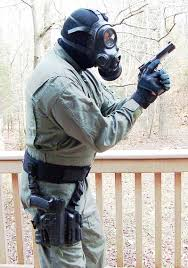Gun: (31, 197, 69, 245), (141, 38, 175, 73)
